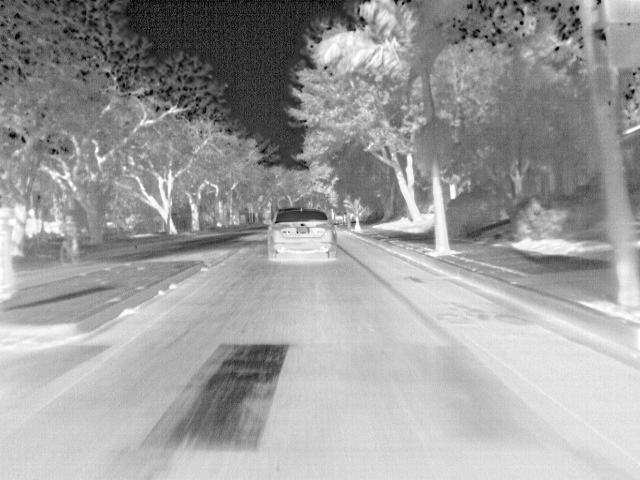car: (265, 208, 339, 263)
person: (8, 218, 23, 260), (61, 214, 77, 242)
